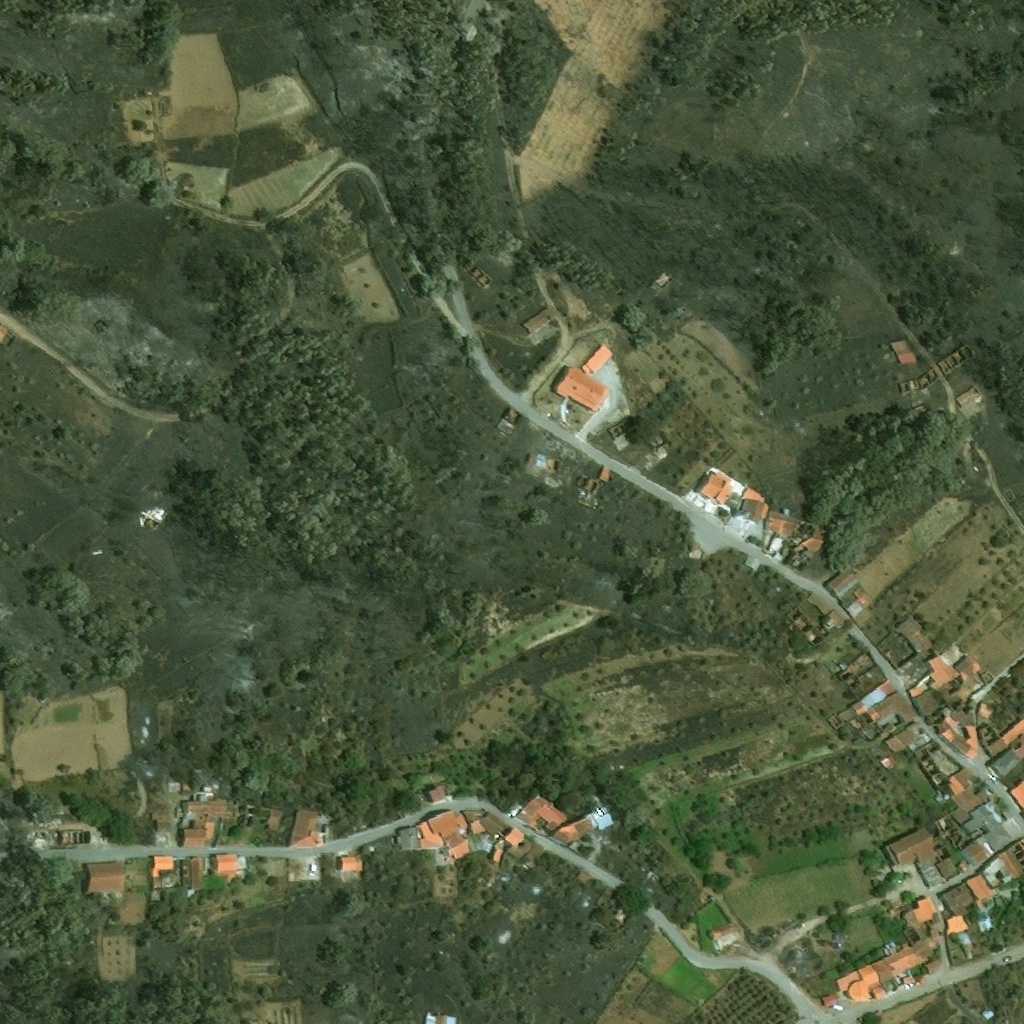0 no-damage: (961, 800, 1014, 856), (553, 363, 612, 411), (883, 825, 942, 868), (425, 810, 475, 860), (833, 962, 887, 1002), (515, 791, 567, 831), (940, 882, 979, 935), (695, 465, 745, 506), (950, 784, 993, 824), (731, 485, 771, 524), (894, 617, 934, 655), (217, 799, 249, 845), (915, 856, 959, 889), (933, 706, 971, 741), (289, 808, 323, 846), (978, 853, 1017, 886), (885, 945, 922, 979), (927, 653, 959, 692), (86, 862, 124, 893), (501, 827, 534, 861), (580, 342, 615, 374), (885, 691, 916, 726), (523, 305, 558, 335), (825, 567, 858, 598), (949, 722, 976, 759), (212, 853, 246, 882), (957, 838, 990, 867), (708, 921, 741, 950), (965, 873, 995, 903), (182, 799, 227, 819), (1000, 838, 1023, 875), (417, 820, 445, 849), (872, 699, 899, 729), (913, 895, 938, 925), (394, 825, 424, 850), (476, 810, 506, 835), (185, 857, 203, 898), (572, 813, 599, 839), (911, 691, 938, 717), (954, 384, 983, 408), (462, 810, 489, 835), (590, 804, 615, 831), (551, 822, 582, 843), (871, 957, 894, 985), (889, 338, 913, 364), (804, 592, 830, 616), (859, 686, 886, 709), (145, 877, 165, 908), (954, 656, 978, 680), (149, 855, 174, 878), (817, 609, 841, 632), (840, 596, 863, 618), (180, 828, 205, 847), (883, 734, 905, 755), (424, 785, 446, 806), (953, 769, 976, 789), (837, 704, 860, 723), (895, 726, 916, 746), (501, 406, 522, 425), (925, 708, 947, 726), (945, 775, 964, 794), (335, 856, 357, 872), (877, 679, 896, 697), (976, 700, 995, 718), (487, 844, 504, 864), (923, 957, 942, 974), (578, 477, 597, 494), (850, 698, 868, 715), (743, 555, 761, 571), (193, 782, 209, 800), (597, 465, 613, 482), (907, 683, 925, 698), (980, 1006, 996, 1021), (879, 756, 895, 771), (819, 993, 836, 1007), (204, 817, 215, 837), (534, 455, 547, 467), (167, 781, 181, 792), (322, 825, 331, 841), (423, 1013, 435, 1023), (901, 976, 912, 985), (442, 1016, 455, 1023), (865, 670, 874, 679), (780, 507, 788, 514)
2 major-damage: (764, 512, 829, 572), (978, 717, 1023, 776), (902, 909, 937, 963)
3 destroyed: (913, 738, 943, 776), (931, 812, 961, 840), (848, 715, 876, 743), (607, 418, 635, 444), (860, 707, 882, 733), (26, 831, 60, 847), (59, 829, 91, 846), (647, 429, 670, 451), (898, 377, 924, 394), (470, 265, 491, 285), (930, 770, 948, 790), (826, 713, 846, 731), (151, 506, 170, 524), (911, 401, 928, 415)
4 un-classified: (835, 648, 874, 696), (85, 634, 112, 661), (289, 858, 319, 880), (1009, 780, 1023, 808), (0, 324, 13, 348), (644, 870, 660, 886)
